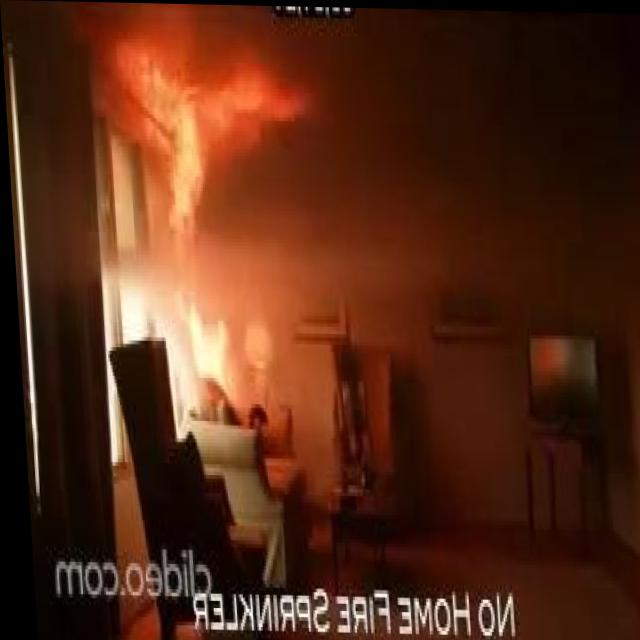fire: (168, 57, 290, 246), (123, 49, 169, 147), (184, 298, 236, 378)
